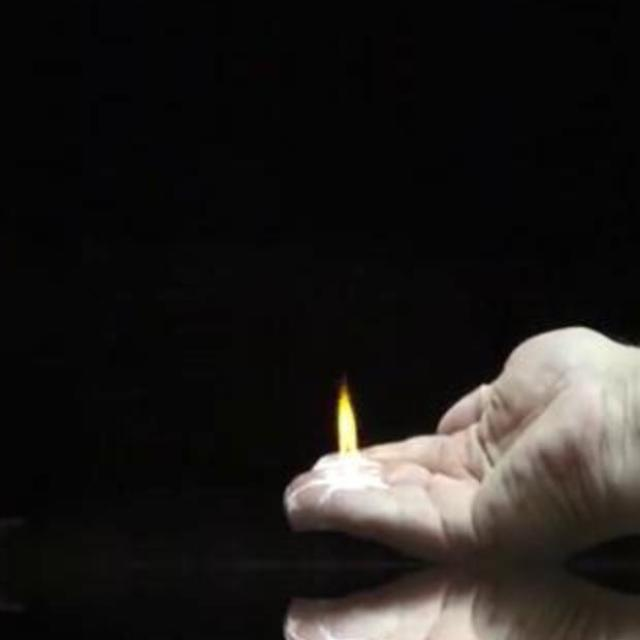smoke: (320, 382, 357, 473)
